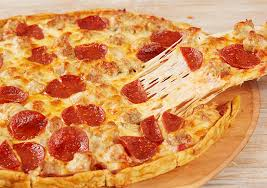pizza: (1, 8, 226, 158)
